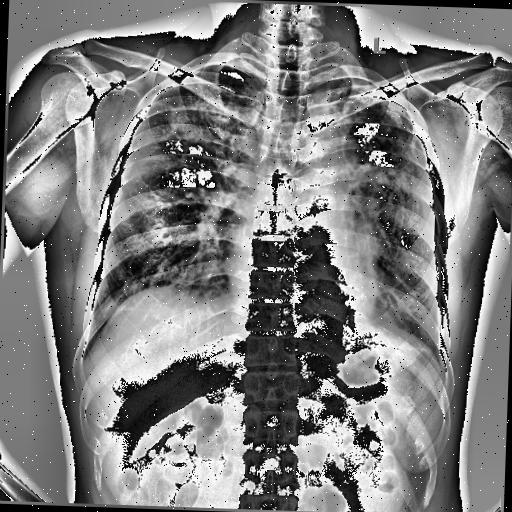1- Atelectasis: (322, 98, 432, 216)
11- Pleural thickening: (310, 64, 409, 154), (307, 66, 405, 112), (306, 68, 339, 132)
13- Pulmonary fibrosis: (328, 92, 430, 222), (322, 98, 432, 216), (334, 80, 424, 200), (142, 90, 252, 168), (144, 90, 254, 158), (144, 79, 225, 152)
6- Infiltration: (144, 79, 225, 152)
7- Lung Opacity: (142, 90, 252, 168)
